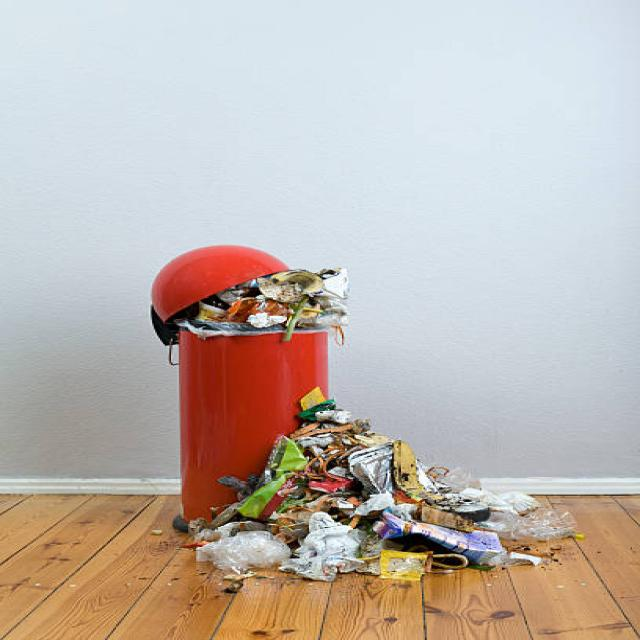trash: (248, 402, 590, 575), (194, 273, 344, 337)
